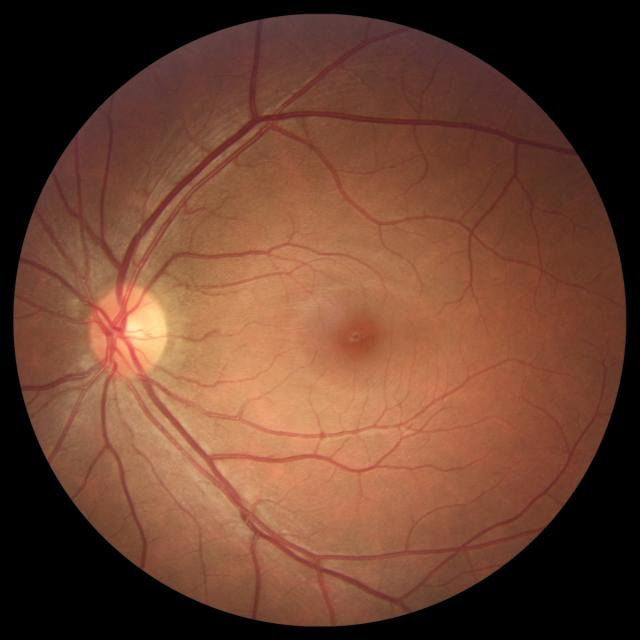OC: (107, 312, 145, 352)
OD: (89, 284, 169, 376)
